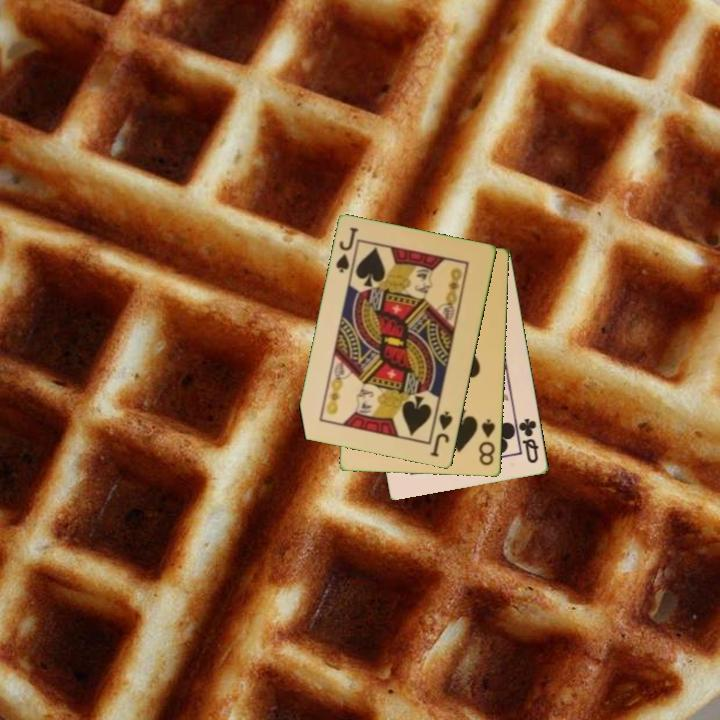8s: (476, 416, 498, 469)
Js: (427, 408, 456, 460), (332, 224, 361, 276)
Qc: (515, 415, 542, 467)
